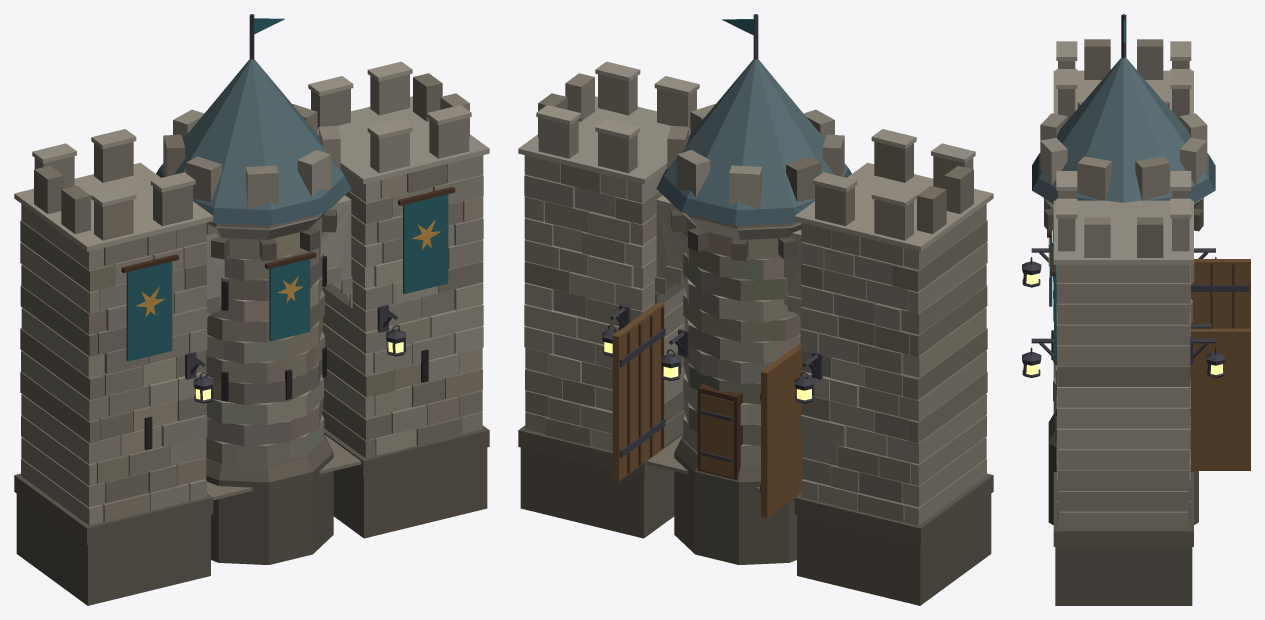
File: town_walls.glb
3 views of the same model, side by side, from view 1: azimuth 30°, elevation 25°; view 2: azimuth 150°, elevation 25°; view 3: azimuth 270°, elevation 25° (orthographic). The views are drawn at different scales.
Parts seen in each view (by area): view 1: town_gatehouse_a, town_wall_tower_a, town_wall_tower_b; view 2: town_gatehouse_a, town_wall_tower_a, town_wall_tower_b; view 3: town_gatehouse_a, town_wall_tower_b, town_wall_tower_a.
Part boxes in pixels (box(x1,y1,x2,y2)): town_gatehouse_a: box(14, 61, 489, 605); town_wall_tower_a: box(163, 104, 340, 564); town_wall_tower_b: box(156, 14, 351, 464); town_gatehouse_a: box(518, 61, 993, 605); town_wall_tower_a: box(661, 104, 844, 564); town_wall_tower_b: box(656, 14, 851, 466); town_gatehouse_a: box(1022, 39, 1250, 605); town_wall_tower_b: box(1032, 14, 1215, 404); town_wall_tower_a: box(1040, 101, 1211, 524).
Bounding box in the file's own units: 5.1 × 6.25 × 2.61.
